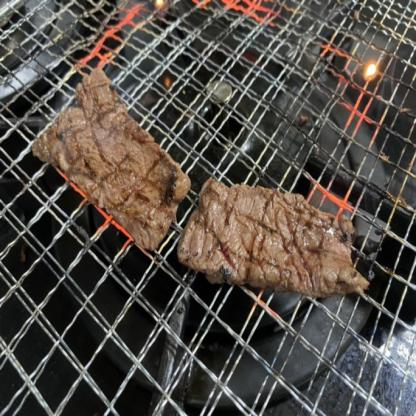Carne: (29, 66, 184, 256), (180, 176, 362, 288)
